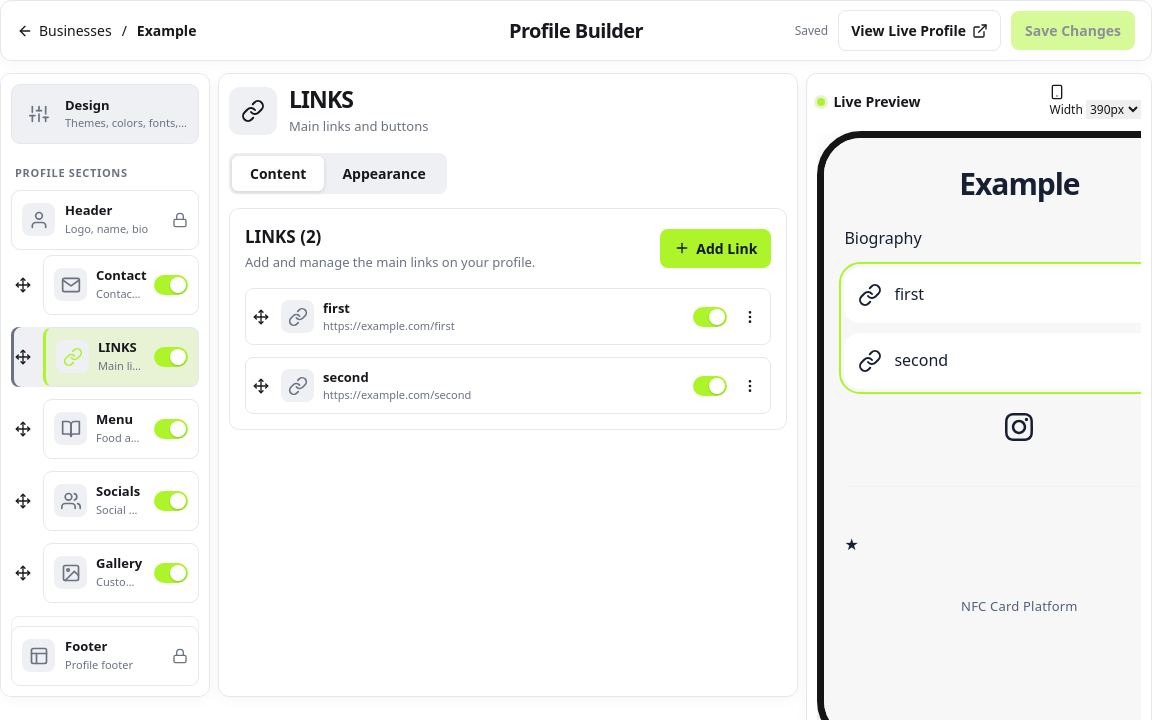
Scenario: approved Builder regions with real sortable rows and public renderer › retains a Link draft across contextual Appearance and Content navigation
The width and height of the screenshot is (1152, 720).
Click the button "first https://example.com/first".
click(298, 317)  # box [281, 300, 683, 334]
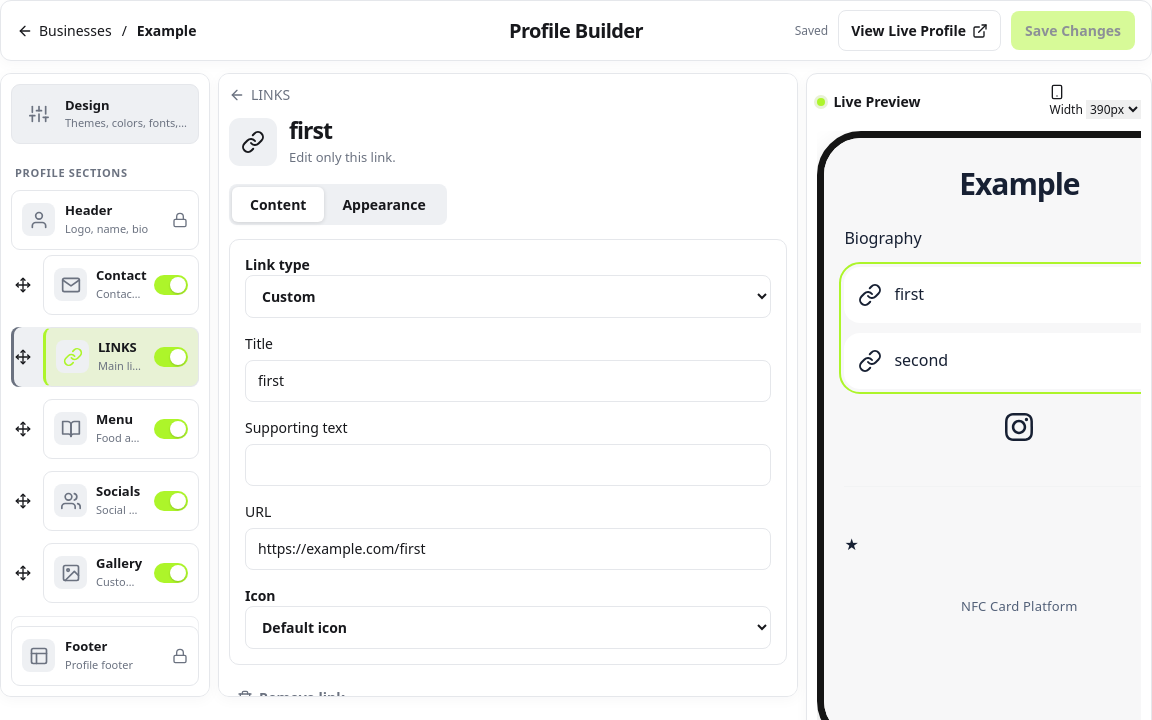
Check: the label "Title" is shown, box [245, 334, 771, 402]
Replace the text in the field labelled "Title" with "Keep this draft" at (508, 381), box [245, 360, 771, 402]
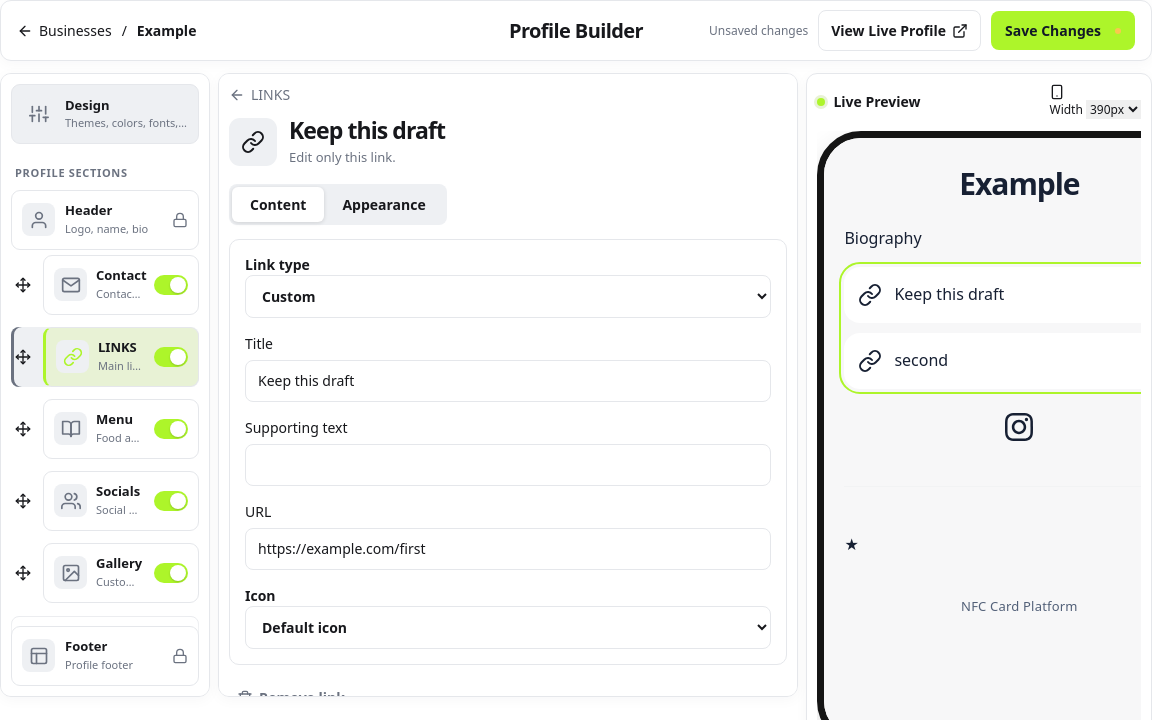
Click the button "LINKS Main links and buttons".
click(100, 357)  # box [56, 340, 144, 374]
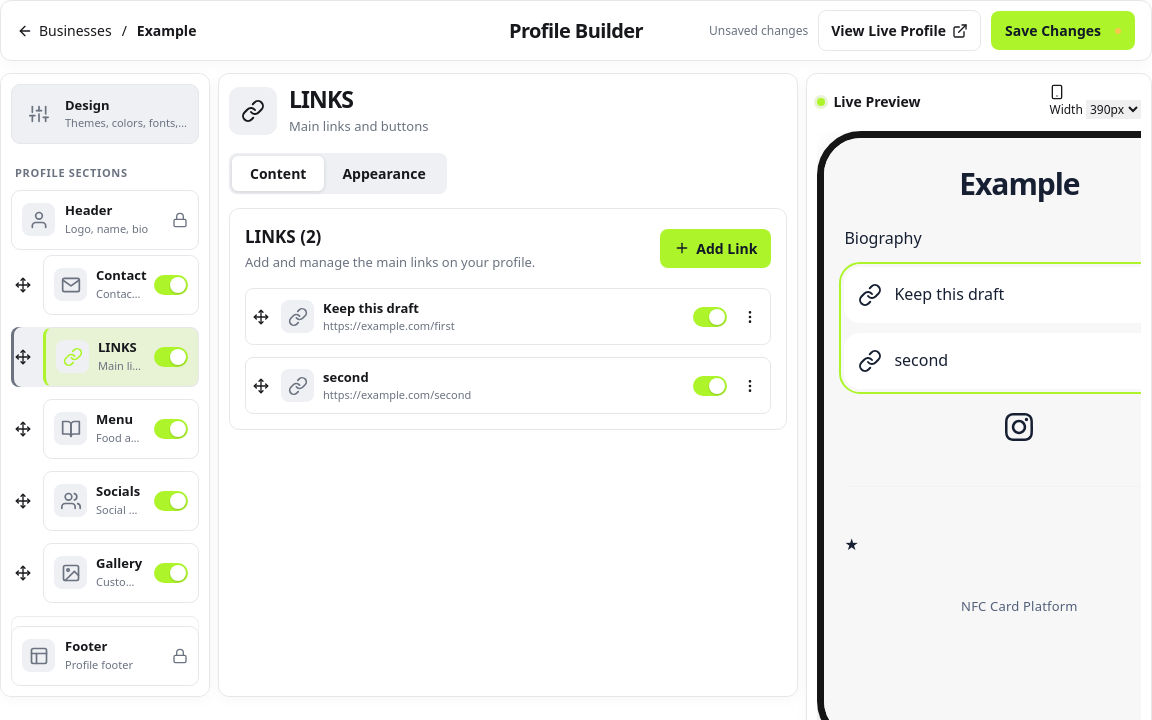
Click the button "Appearance".
click(384, 174)  # box [324, 156, 444, 191]
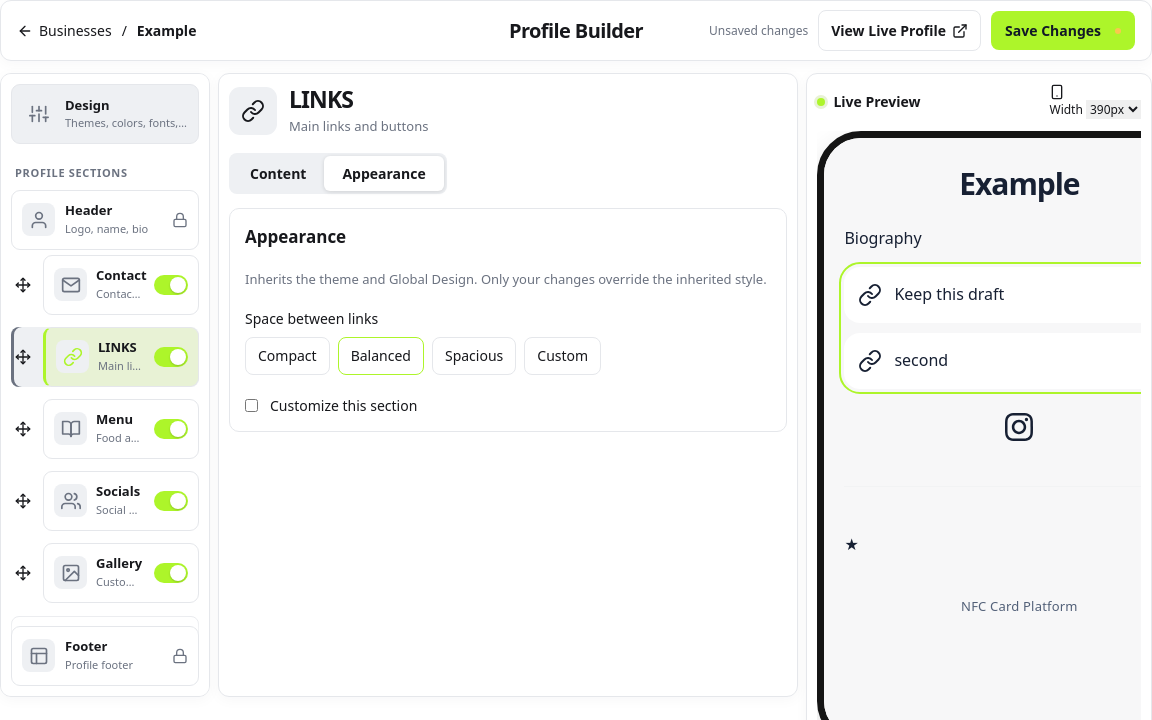
Click the button "Content".
click(278, 174)  # box [232, 156, 324, 191]
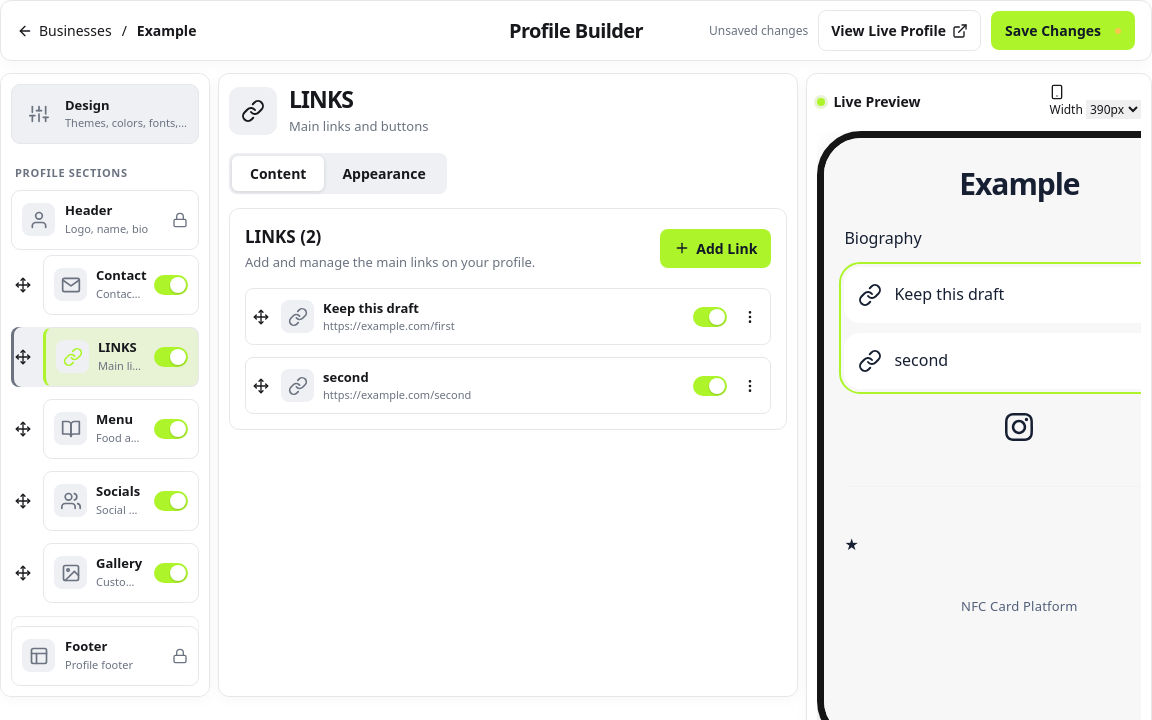
Check: the button "Keep this draft https://example.com/first" is shown
Click the button "Keep this draft https://example.com/first".
click(298, 317)  # box [281, 300, 683, 334]
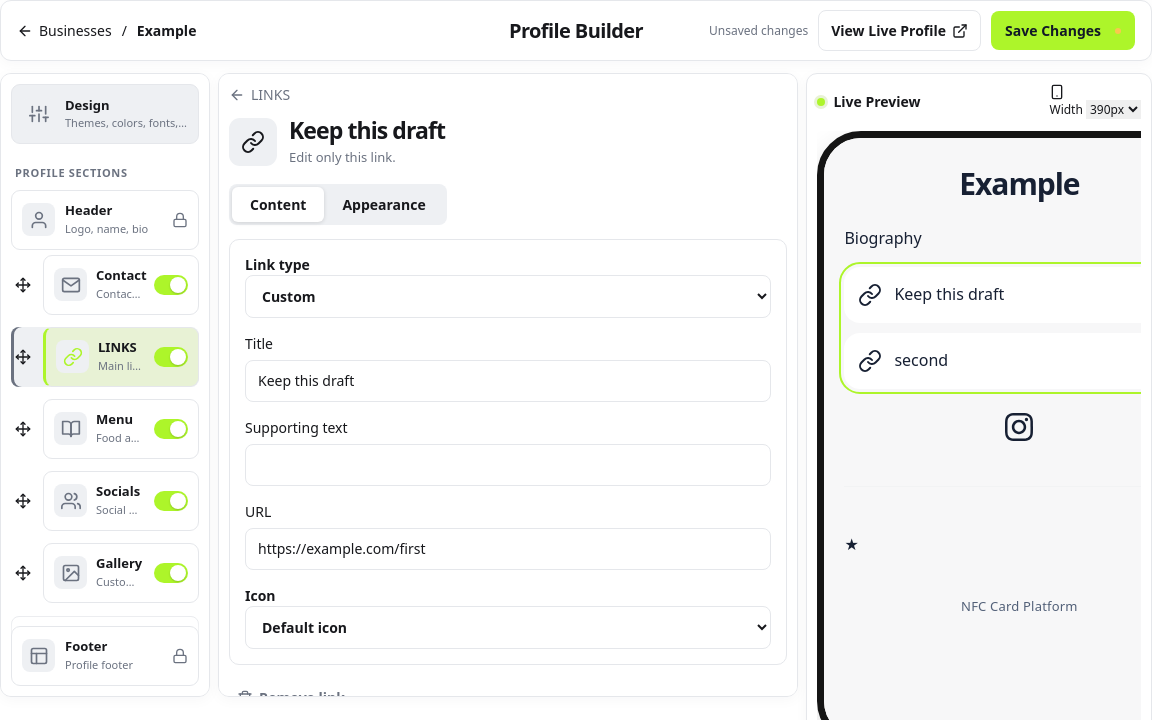
Check: the heading "Keep this draft" is shown, box [289, 117, 445, 145]
